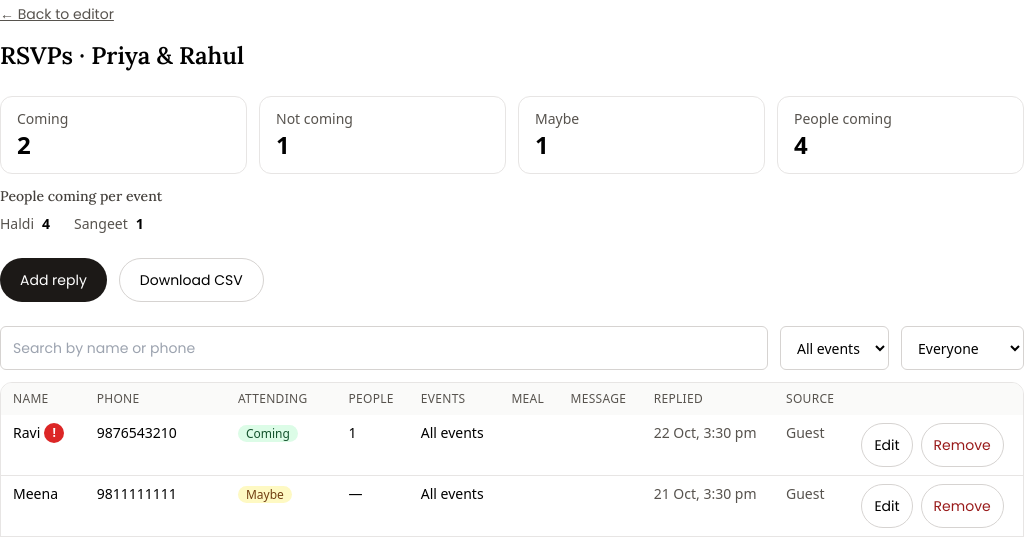
Test: RsvpPage › edits a reply with its previous key and shows a save error
Click the button with aria-label "Edit: Meena".
click(887, 506)  # box [861,484,913,528]
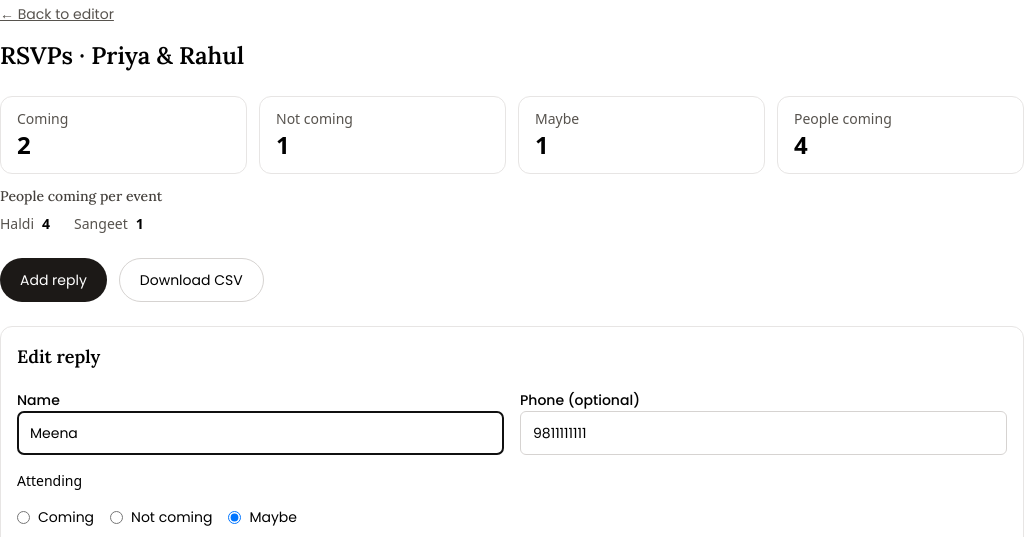
Now the field labelled "Name" holds "Meena", box [17,411,504,455]
Click the radio button labelled "Coming".
click(24, 517)  # box [17,510,30,524]
(page scrolled)
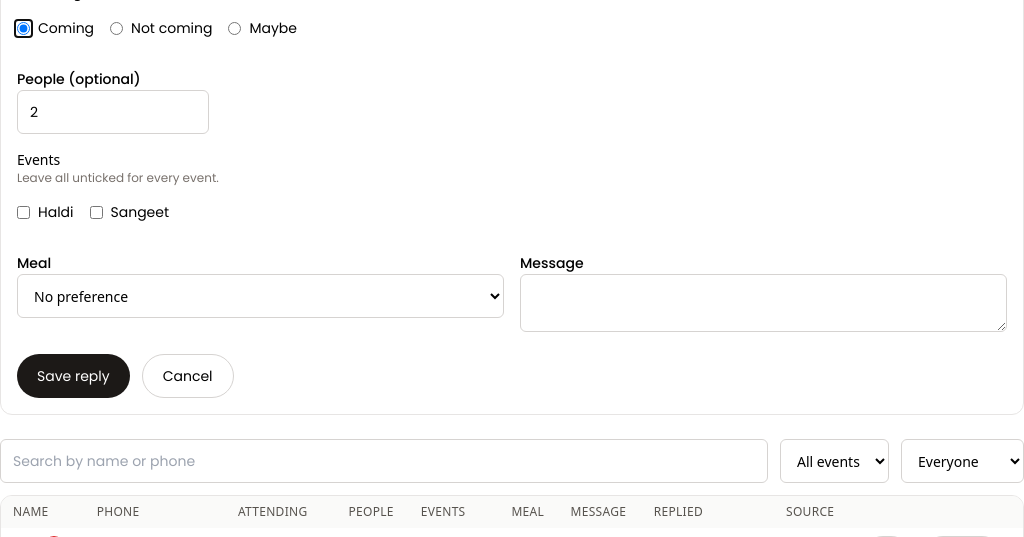
Click the button "Save reply".
click(73, 376)  # box [17,354,130,398]
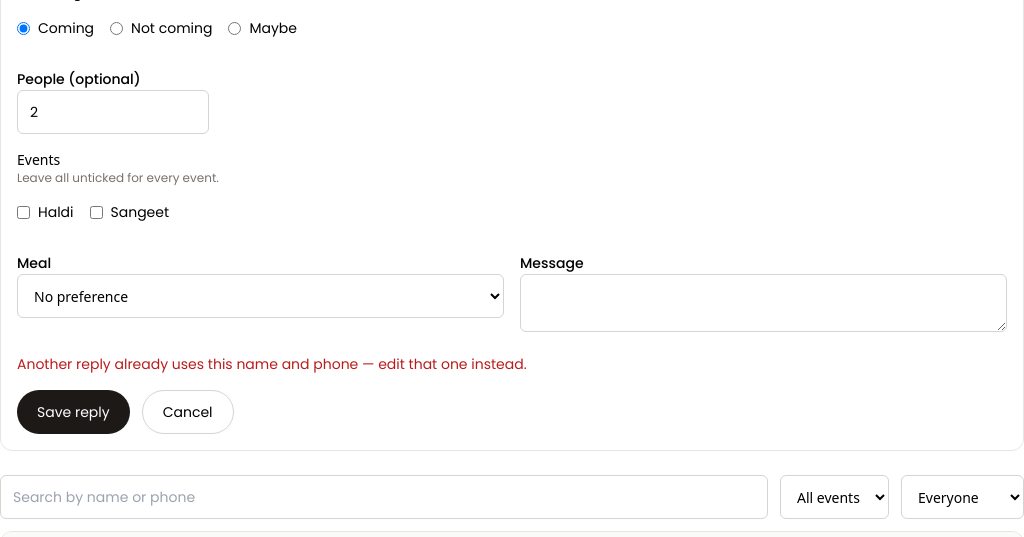
Now the message shows "Another reply already uses this name and phone", box [17,354,527,374]
